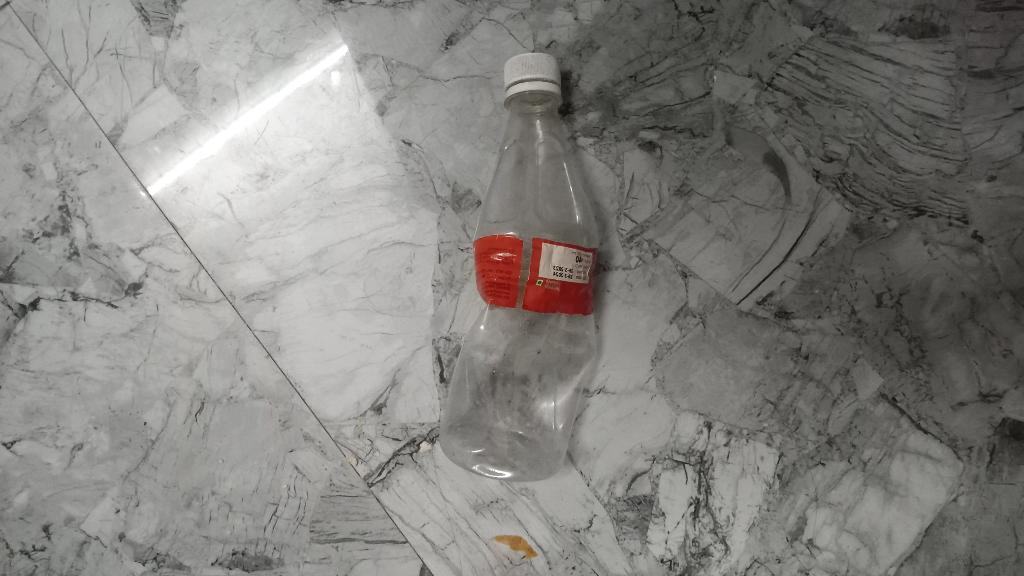garbage: (431, 35, 611, 490)
